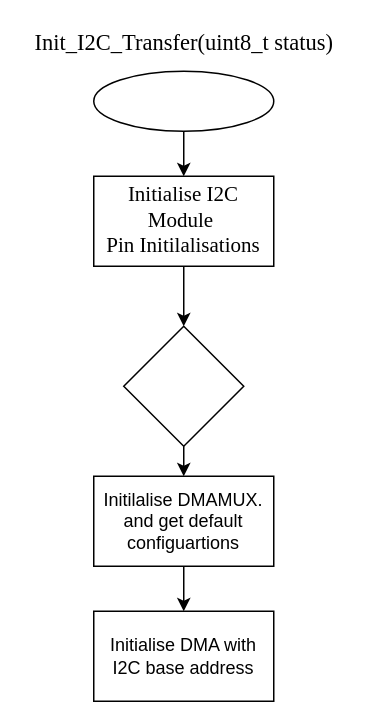
This 366x728 diagram has some shape labels left out. The box of each missing label's shape, as (x1, y1, x2, y2) in pixels:
is Status = Master: (122, 325, 244, 446)
START: (92, 70, 274, 131)
